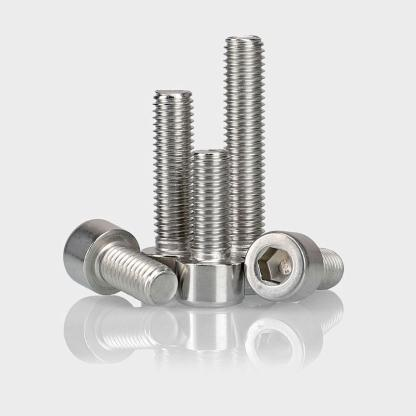FOD: (214, 32, 276, 298), (137, 84, 203, 296), (176, 147, 254, 311), (61, 217, 179, 307), (243, 228, 344, 304)
